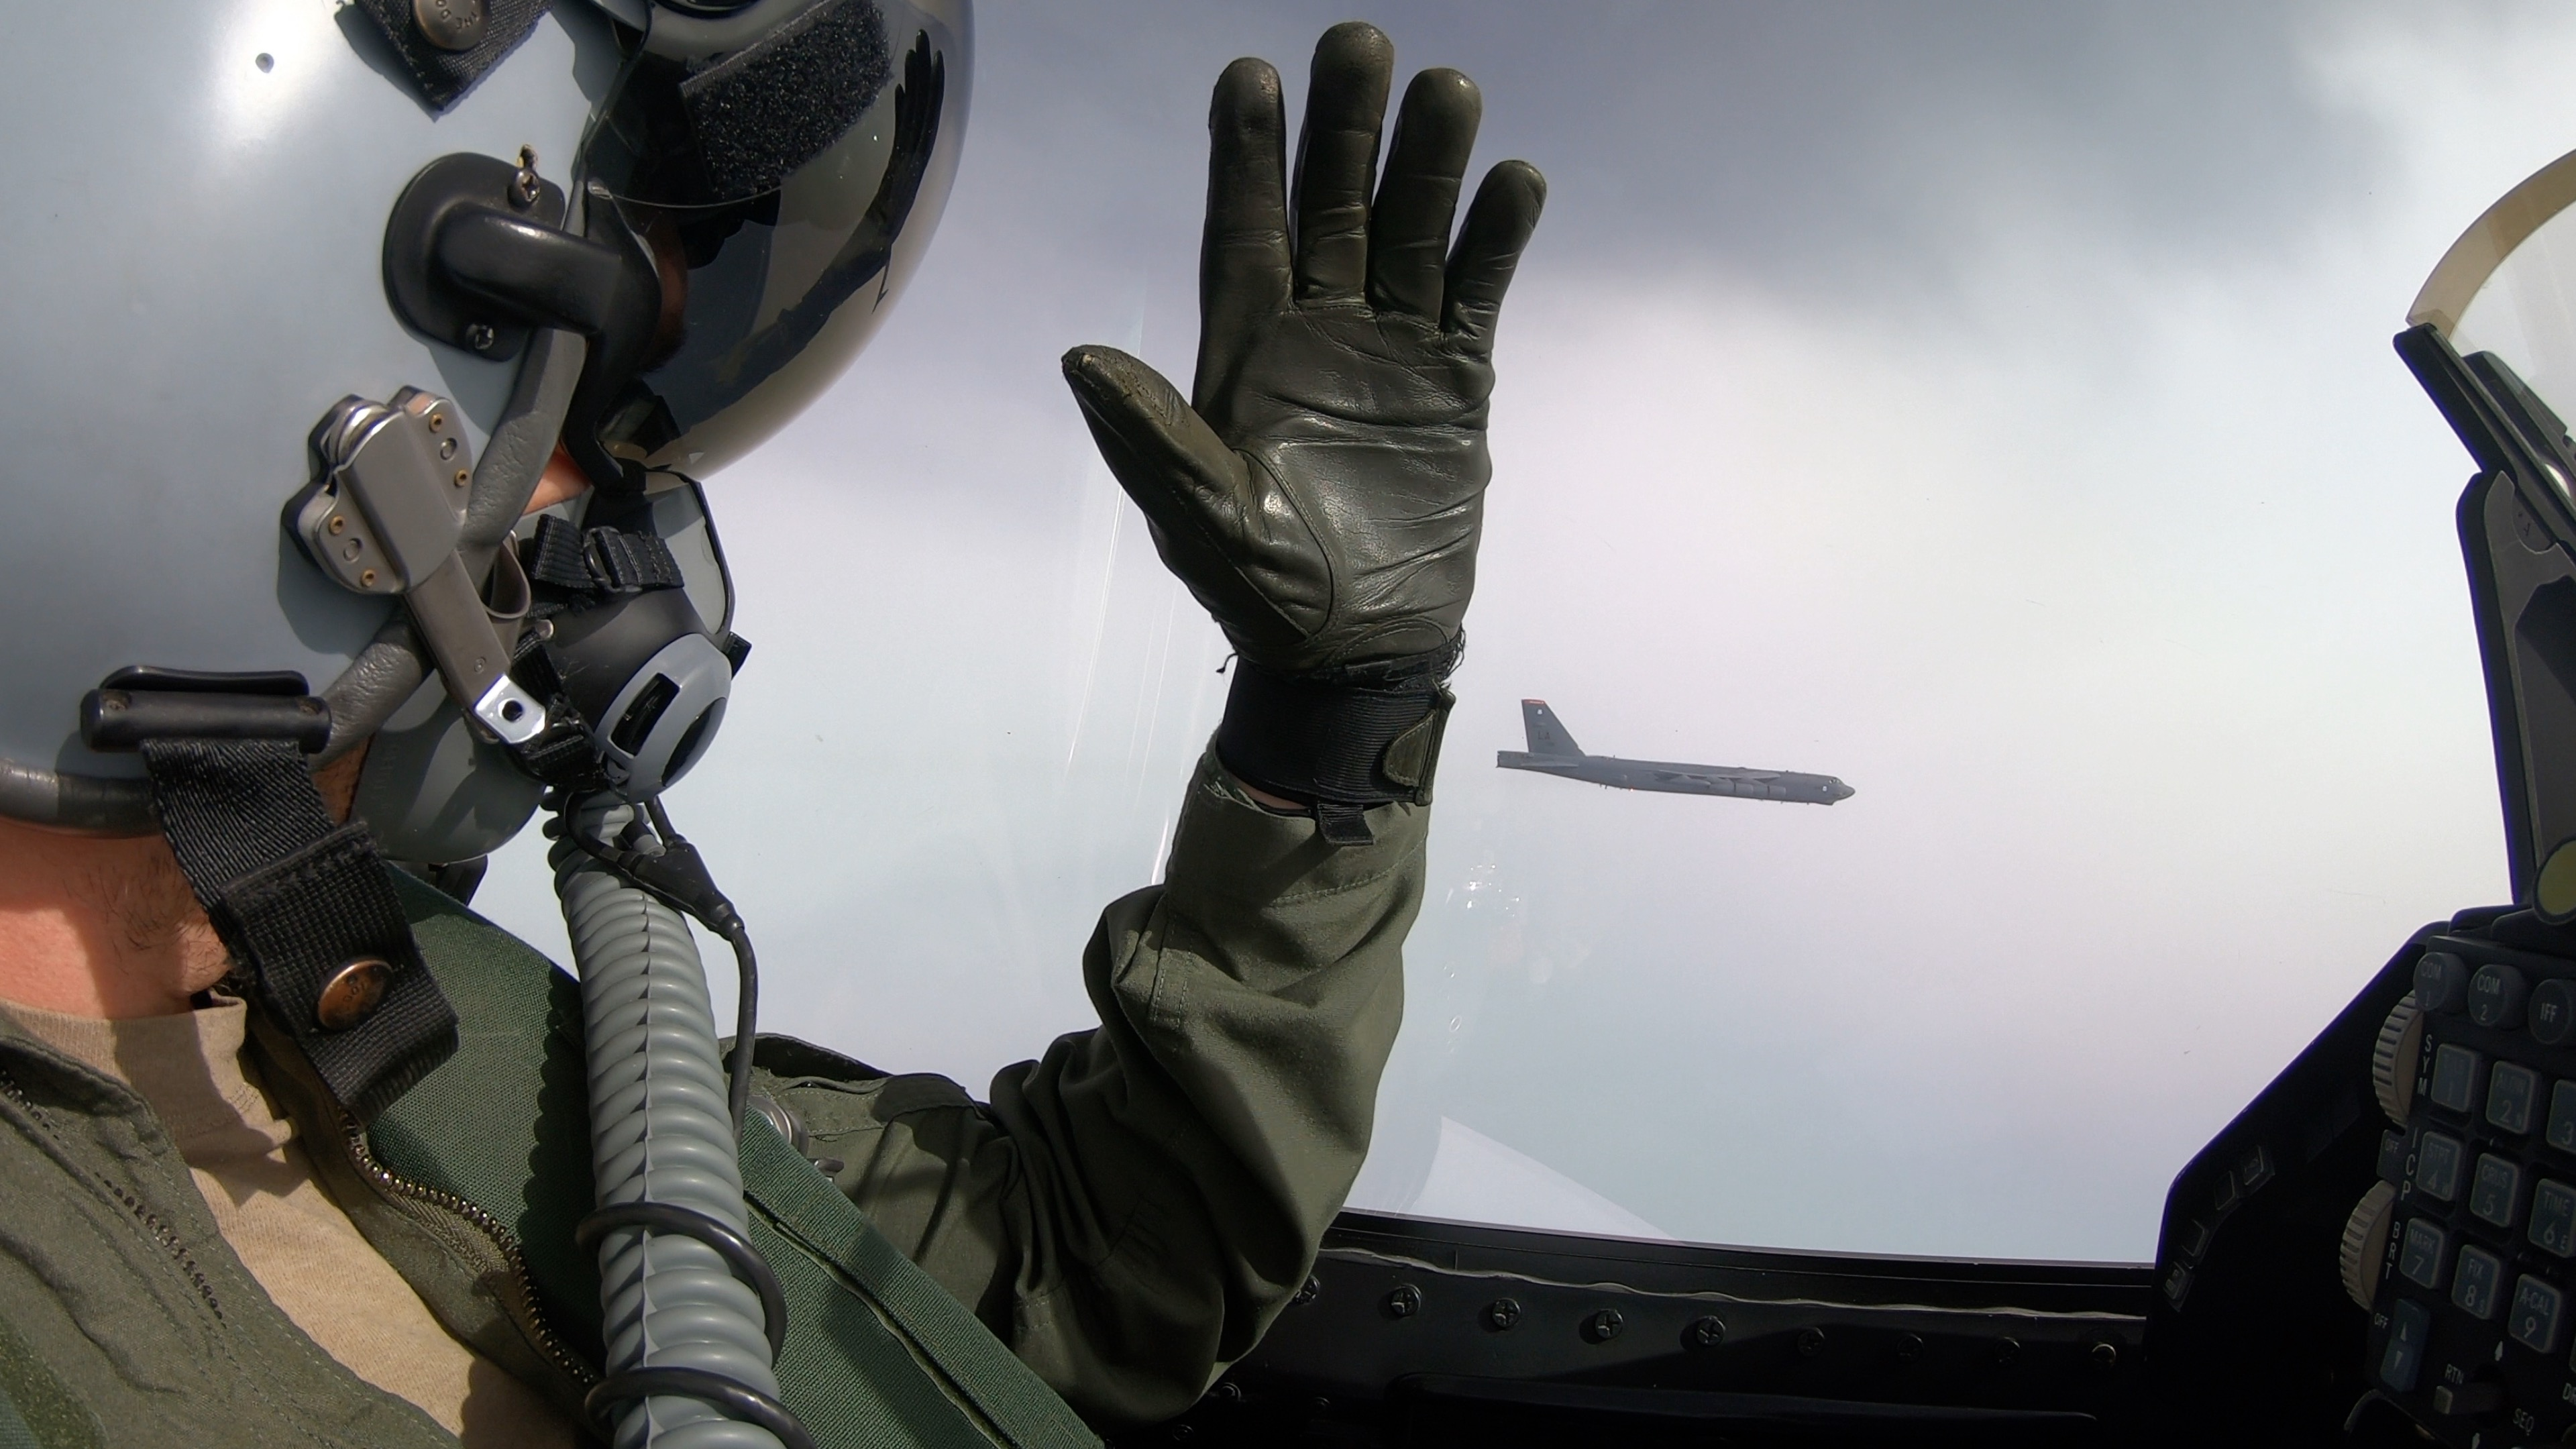B52: (1495, 699, 1856, 805)
